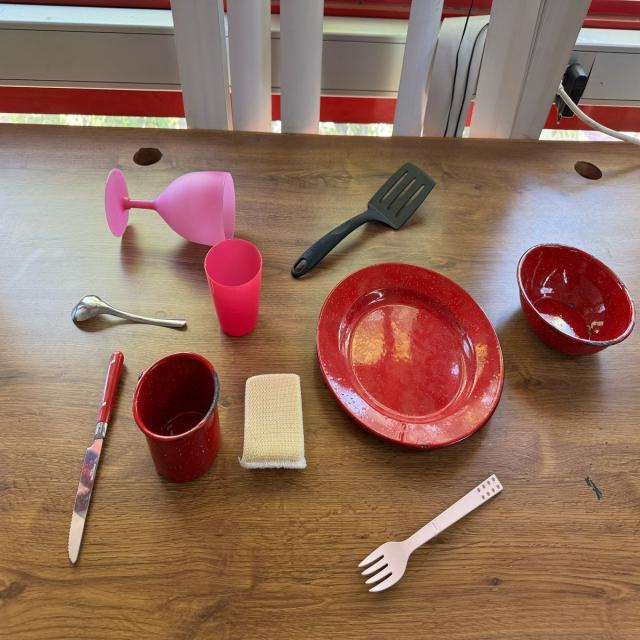cup: (130, 351, 223, 482)
fork: (356, 468, 502, 595)
glass: (204, 238, 262, 337)
knife: (65, 350, 126, 564)
plate: (317, 261, 503, 447)
spatula: (289, 161, 439, 280)
sponge: (238, 374, 306, 472)
spoon: (71, 293, 190, 330)
tazon: (514, 242, 637, 354)
wineglass: (101, 167, 238, 251)
